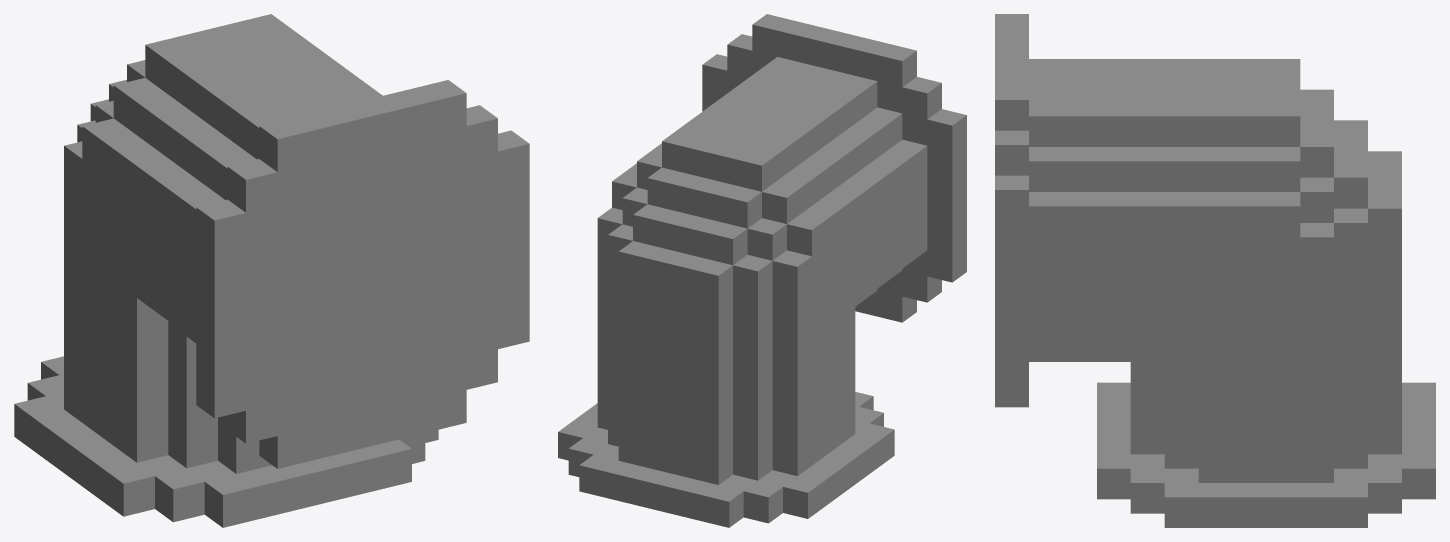
Rendered from pipe corner.obj.
The picture shows the model from 3 angles, left to right: view 1: azimuth 30°, elevation 25°; view 2: azimuth 150°, elevation 25°; view 3: azimuth 270°, elevation 25°; orthographic projection. The views are drawn at different scales.
Visible parts, largest first — view 1: pipe corner; view 2: pipe corner; view 3: pipe corner.
Part boxes in pixels (box(x1,y1,x2,y2)): pipe corner: box(14, 14, 529, 527); pipe corner: box(558, 14, 966, 527); pipe corner: box(995, 14, 1435, 527).
Bounding box in the file's own units: 10 × 13 × 13.
Materials: 1 (1 with a texture image).
